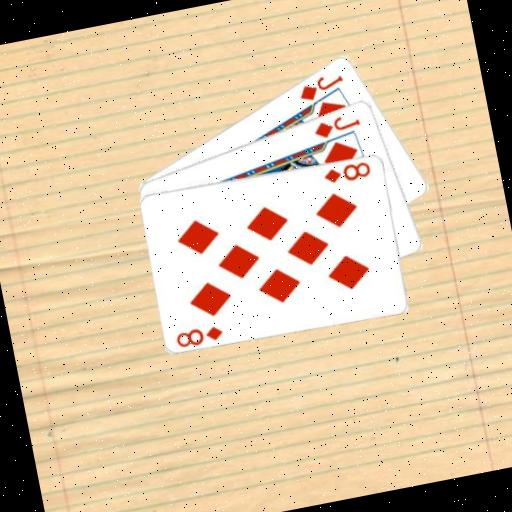8D: (319, 158, 373, 188), (172, 320, 226, 349)
JD: (293, 69, 348, 105), (310, 109, 364, 141)
